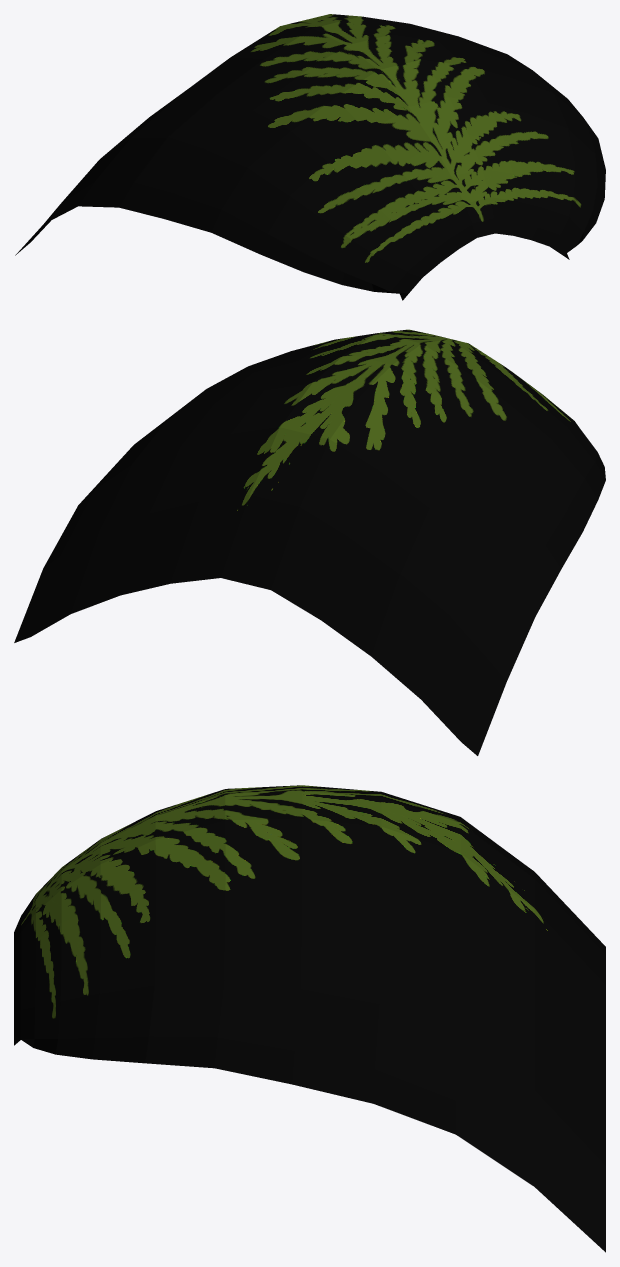
File: fern.glb
3 views of the same model, one above another, from view 1: azimuth 30°, elevation 25°; view 2: azimuth 150°, elevation 25°; view 3: azimuth 270°, elevation 25° (orthographic). The views are drawn at different scales.
Parts seen in each view (by area): view 1: Plane.158; view 2: Plane.158; view 3: Plane.158.
Boxes of the visible parts, x1,y1,x2,y2 form: Plane.158: [15, 14, 605, 300]; Plane.158: [14, 329, 605, 755]; Plane.158: [14, 785, 605, 1252].
Bounding box in the file's own units: 1.68 × 0.8669 × 1.51.
1 material, 1 textured.
